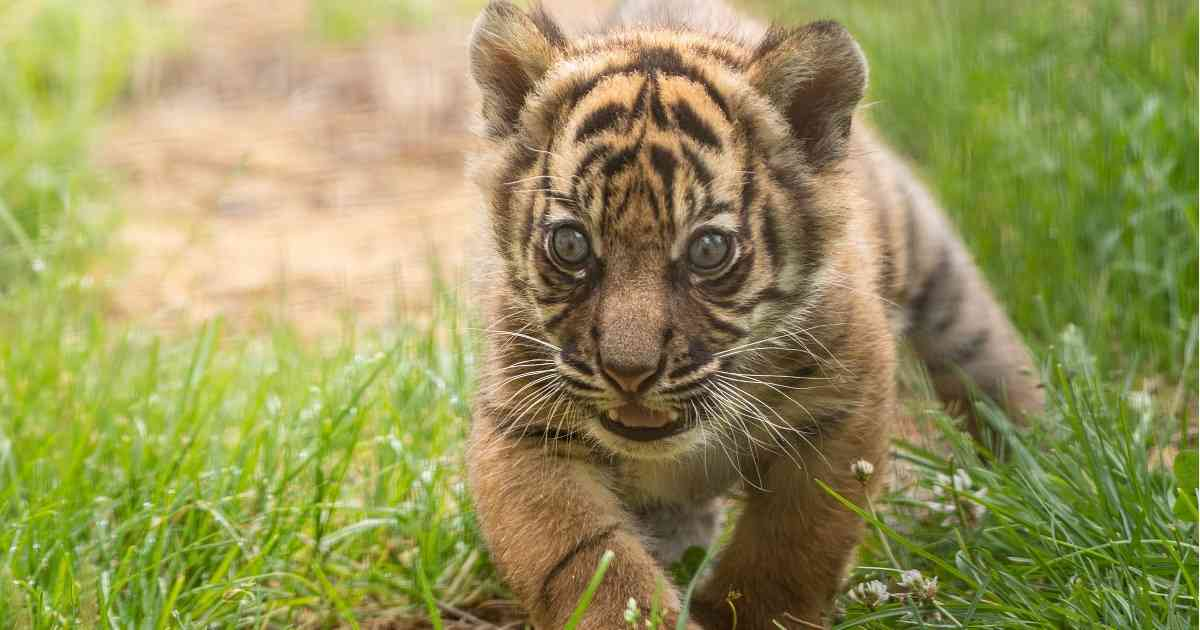Tigrew: (446, 10, 1038, 603)
